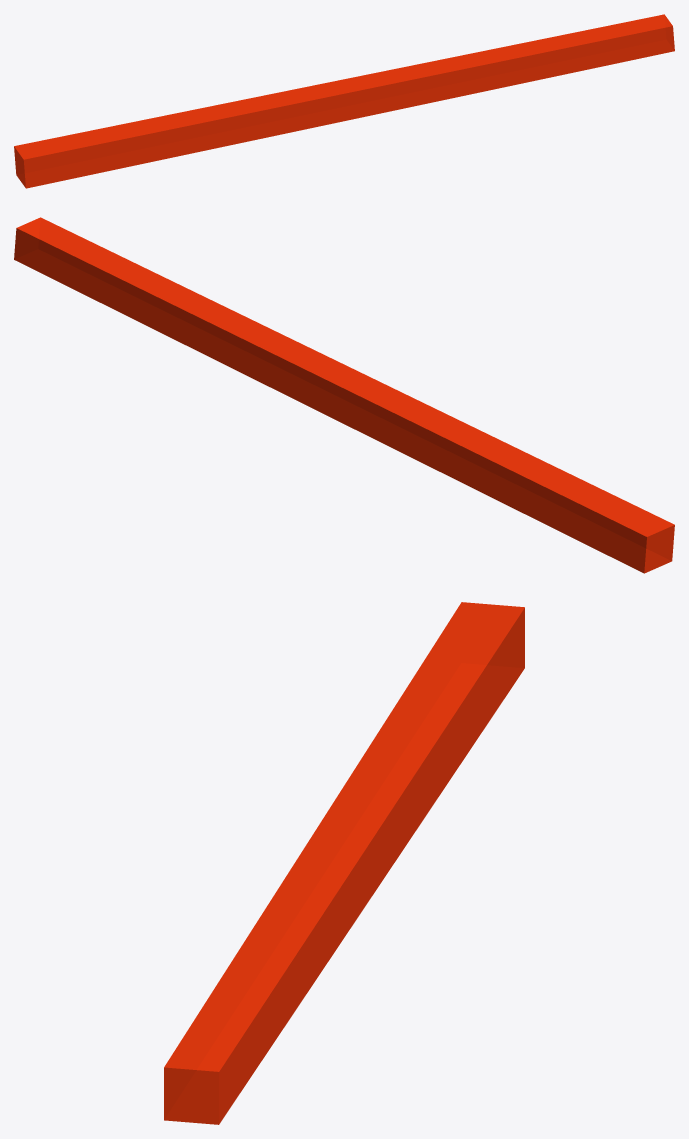
Rendered from Event_421115418_EErechit_50.fbx.
3 views of the same model, one above another, from view 1: azimuth 30°, elevation 25°; view 2: azimuth 150°, elevation 25°; view 3: azimuth 270°, elevation 25° (orthographic). The views are drawn at different scales.
Parts seen in each view (by area): view 1: Model; view 2: Model; view 3: Model.
Part boxes in pixels (box(x1,y1,x2,y2)): Model: box(14, 14, 674, 188); Model: box(14, 217, 674, 573); Model: box(164, 602, 524, 1124).
Size of the model in its own units: 1.73 by 0.2199 by 0.4638.
